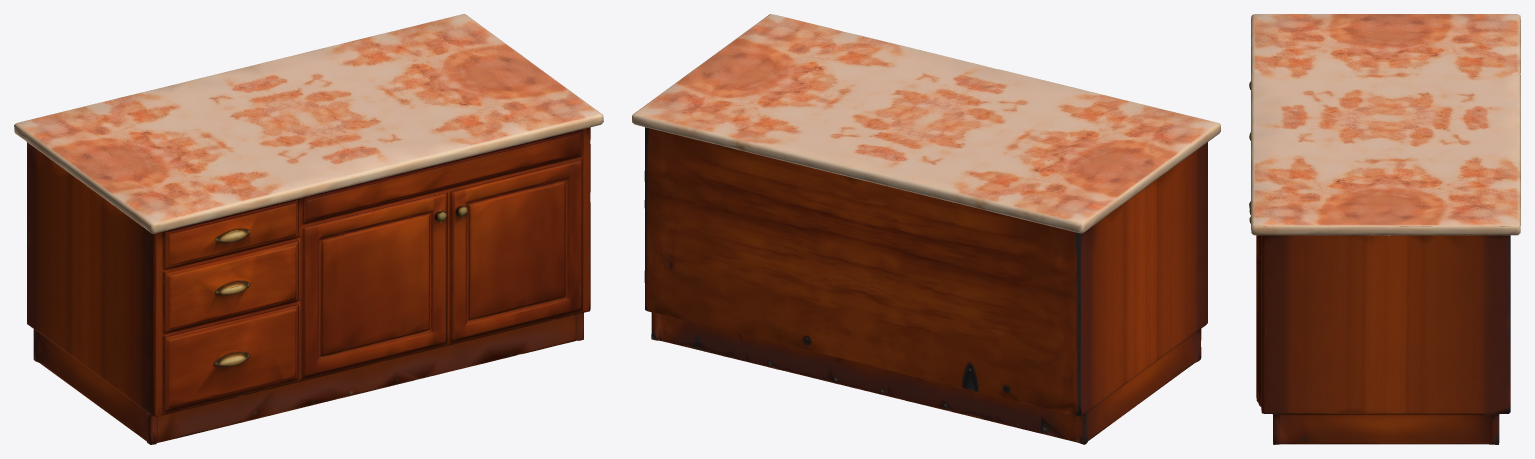
The model's file is Meshy_AI_tzgah_0108010418_texture.fbx.
3 renders of one model, left to right at view 1: azimuth 30°, elevation 25°; view 2: azimuth 150°, elevation 25°; view 3: azimuth 270°, elevation 25°, orthographic. The views are drawn at different scales.
Parts seen in each view (by area): view 1: Mesh_0; view 2: Mesh_0; view 3: Mesh_0.
Part boxes in pixels (left/top/right/bottom): Mesh_0: left=14, top=14, right=603, bottom=444; Mesh_0: left=632, top=14, right=1220, bottom=444; Mesh_0: left=1249, top=14, right=1520, bottom=444.
Bounding box in the file's own units: 191 × 93.38 × 103.
Materials: 1 (1 with a texture image).
